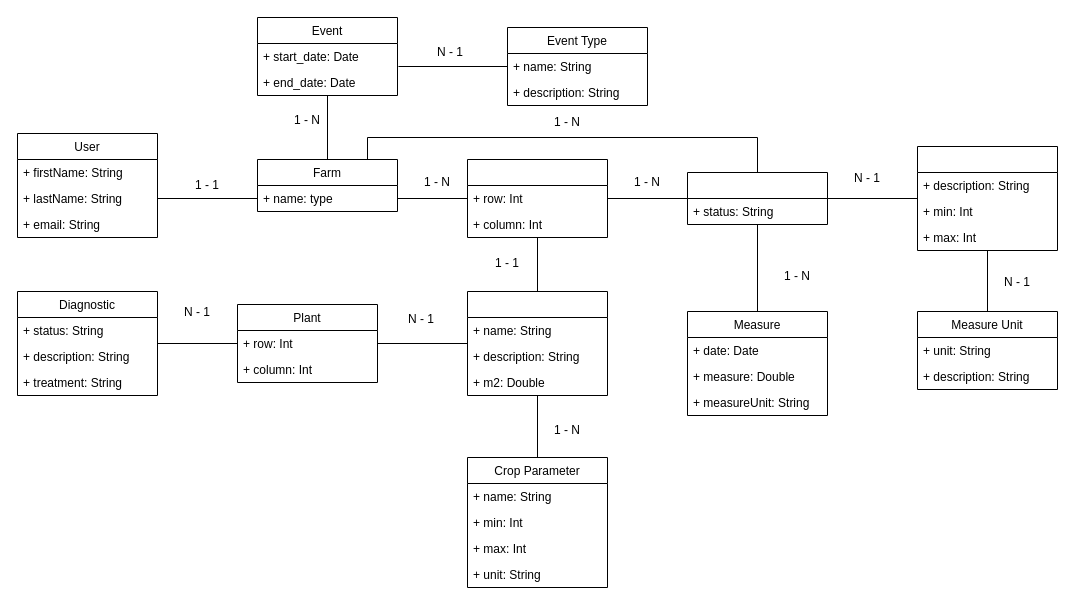
The diagram is 1075 pixels wide and 608 high, and some of its shapes have lost their labels. The box of each missing label's shape, as (x1, y1, x2, y2) in pixels:
Crop: (466, 290, 608, 396)
Sector: (466, 158, 608, 238)
Sensor: (686, 172, 828, 224)
Sensor Type: (916, 146, 1058, 250)
